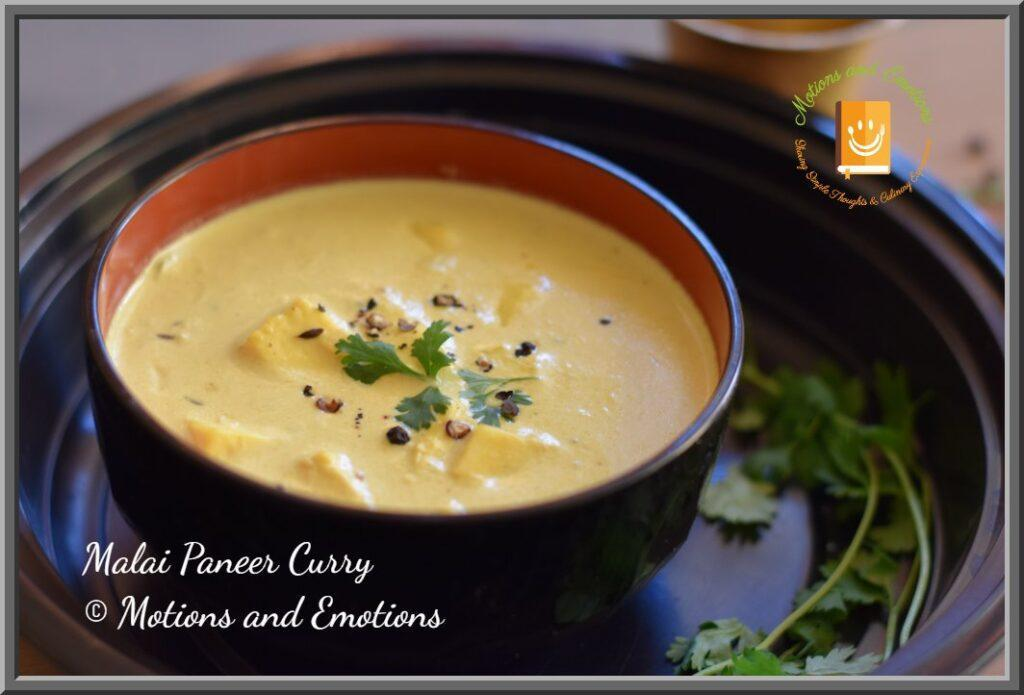paneer: (265, 275, 519, 468)
